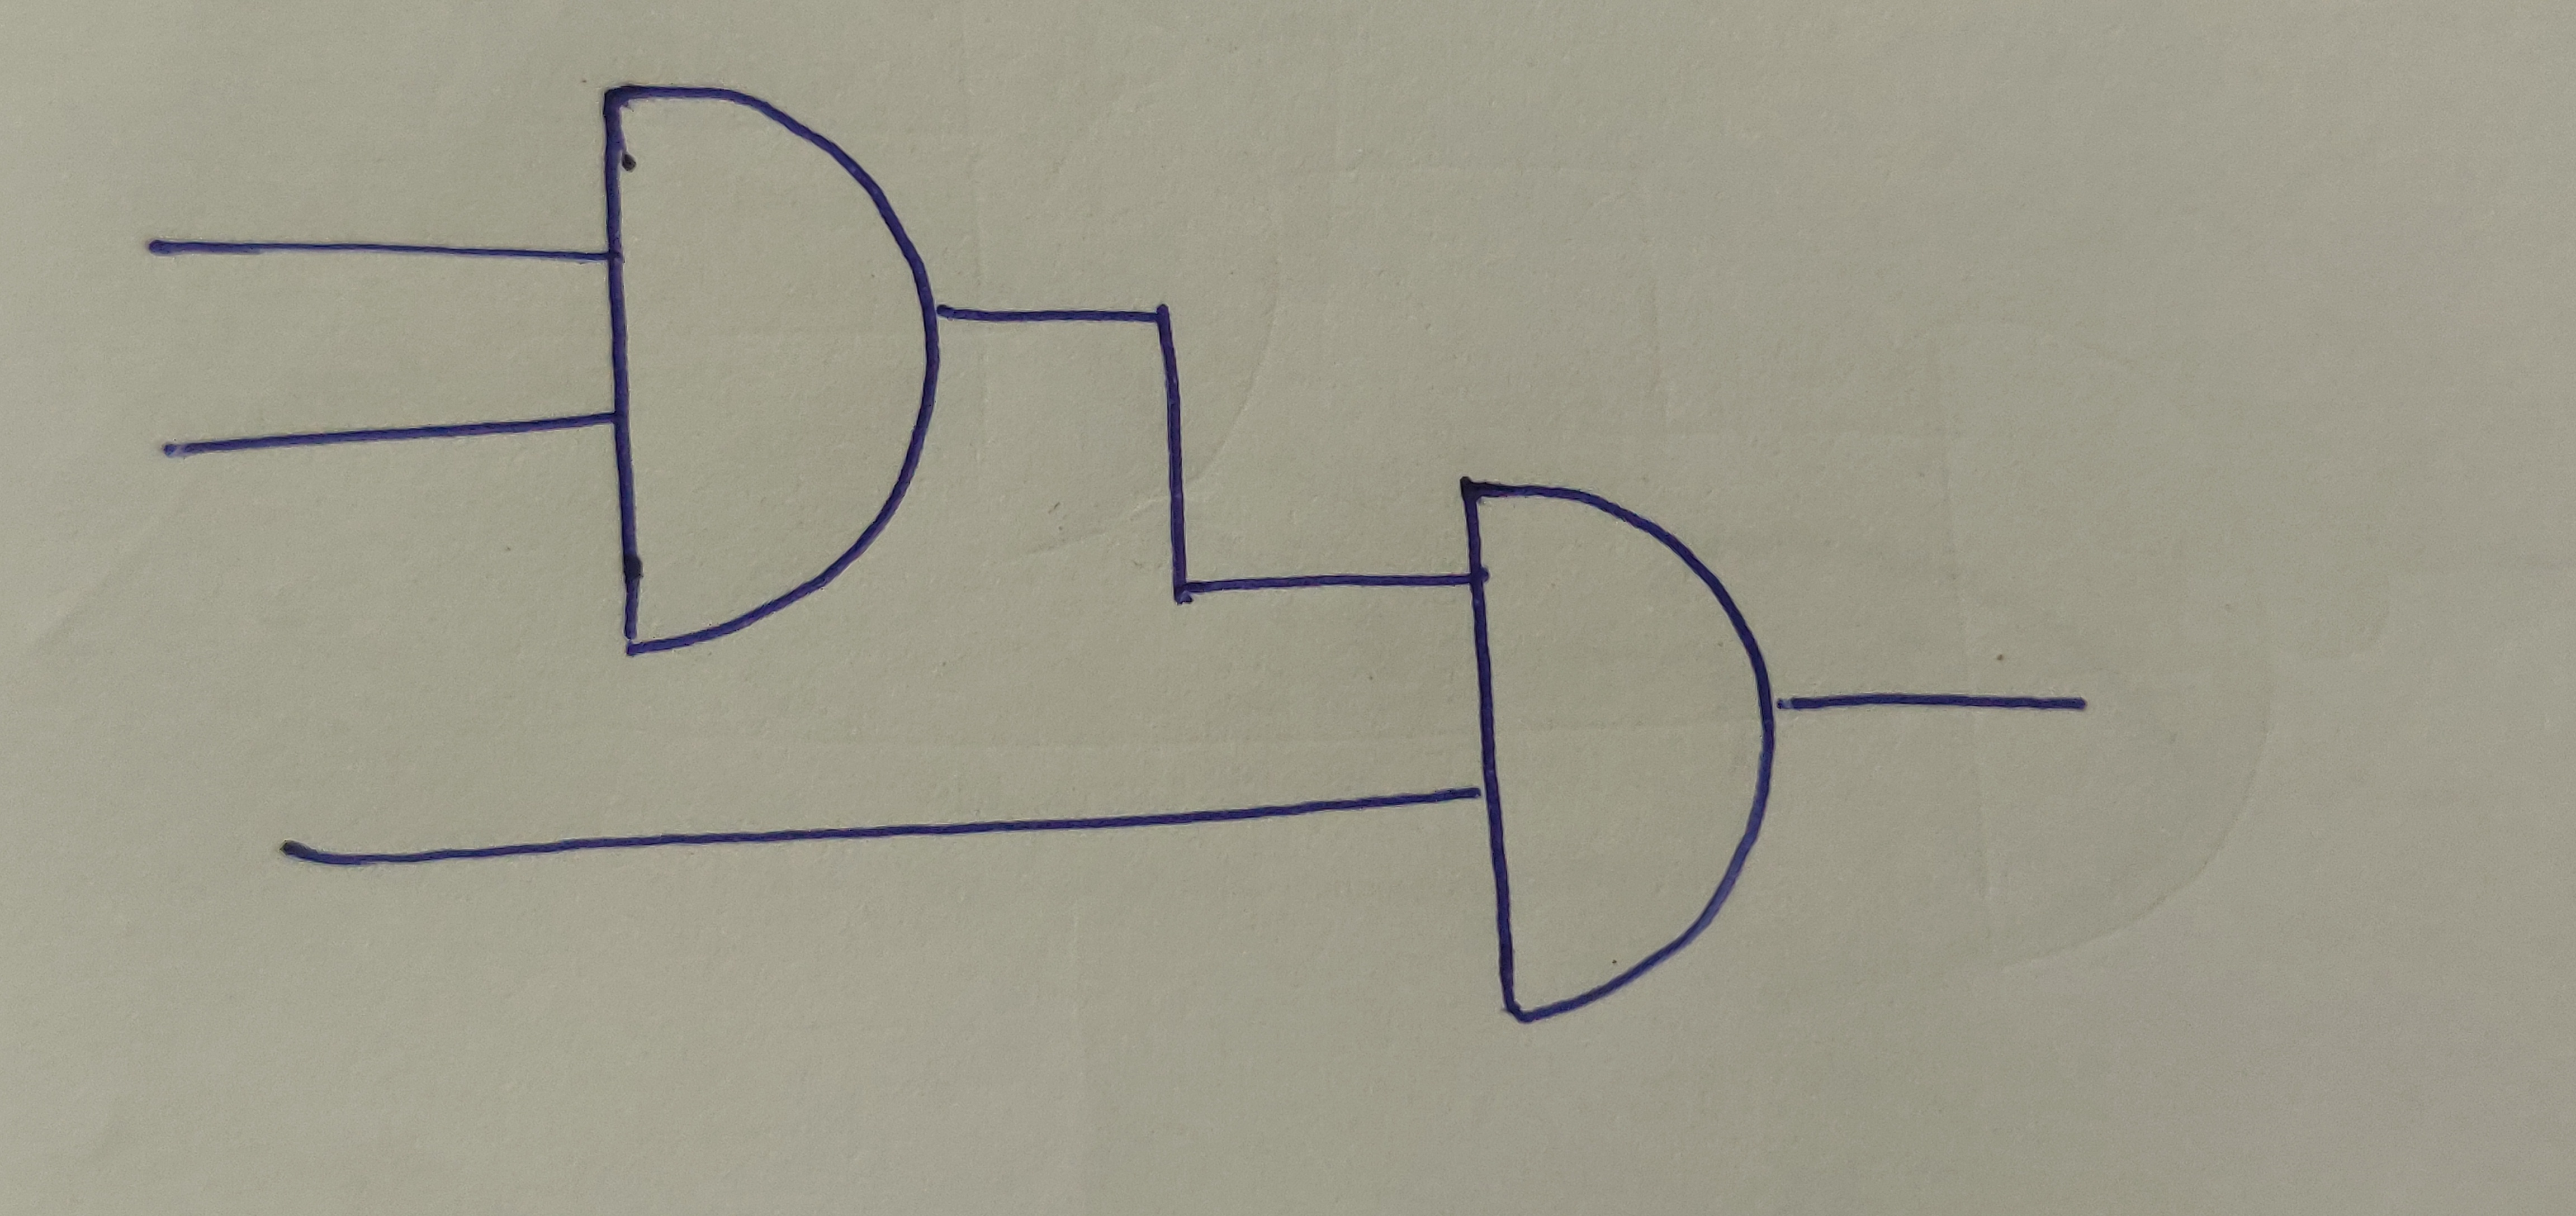and: (596, 79, 945, 656), (1461, 473, 1778, 1025)
